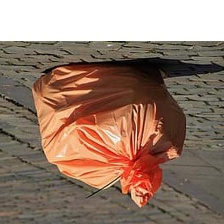plastic_bag: (29, 61, 188, 209)
